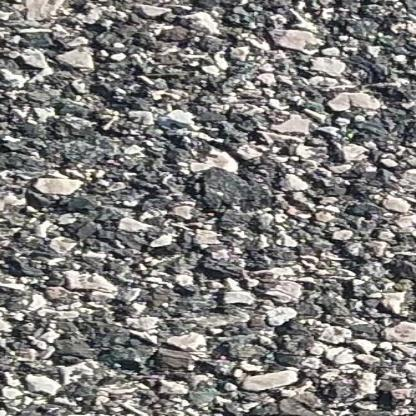Cracks: (0, 58, 416, 162)
